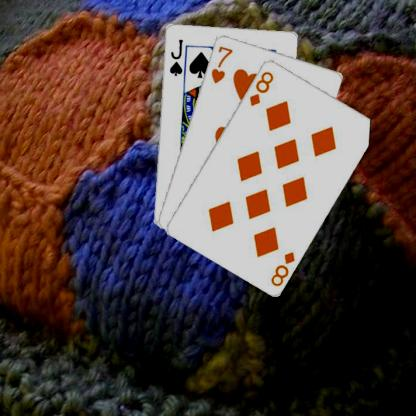7H: (208, 43, 234, 84)
8D: (268, 249, 296, 288), (247, 68, 274, 108)
JS: (166, 37, 184, 77)
